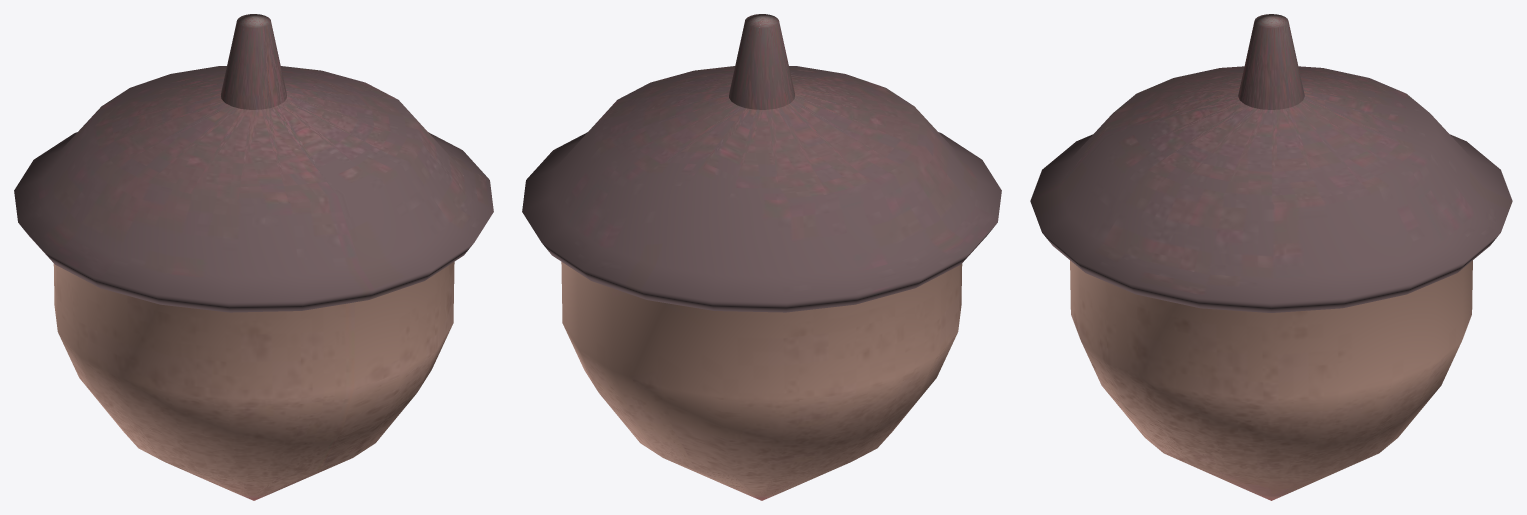
File: nut fbx.FBX
3 views of the same model, side by side, from view 1: azimuth 30°, elevation 25°; view 2: azimuth 150°, elevation 25°; view 3: azimuth 270°, elevation 25° (orthographic).
Visible parts, largest first — view 1: pSphere1; view 2: pSphere1; view 3: pSphere1.
Part boxes in pixels (x1,y1,x2,y2): pSphere1: (14, 14, 493, 500); pSphere1: (522, 14, 1001, 500); pSphere1: (1030, 14, 1512, 500).
Size of the model in its own units: 2.84 by 3.13 by 2.84.
Materials: 1 (1 with a texture image).
